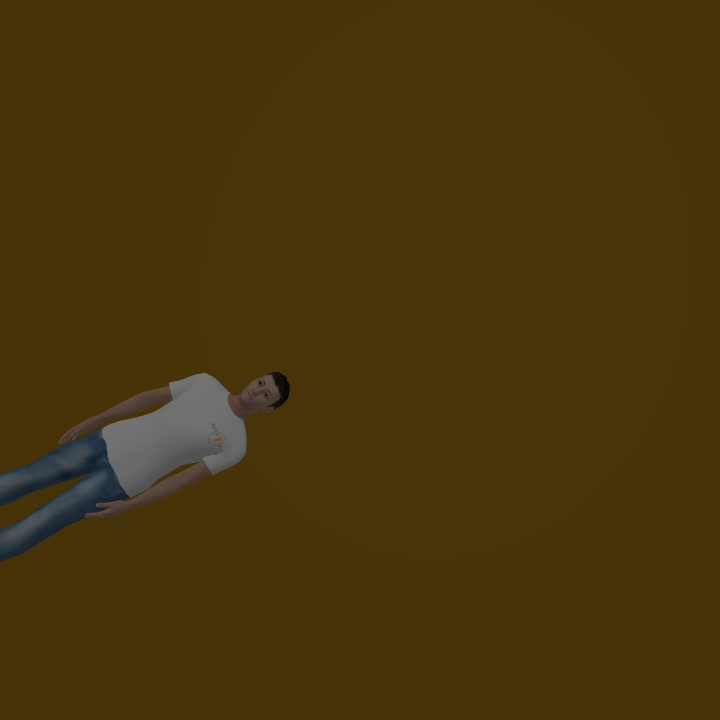victim: (3, 369, 290, 561)
